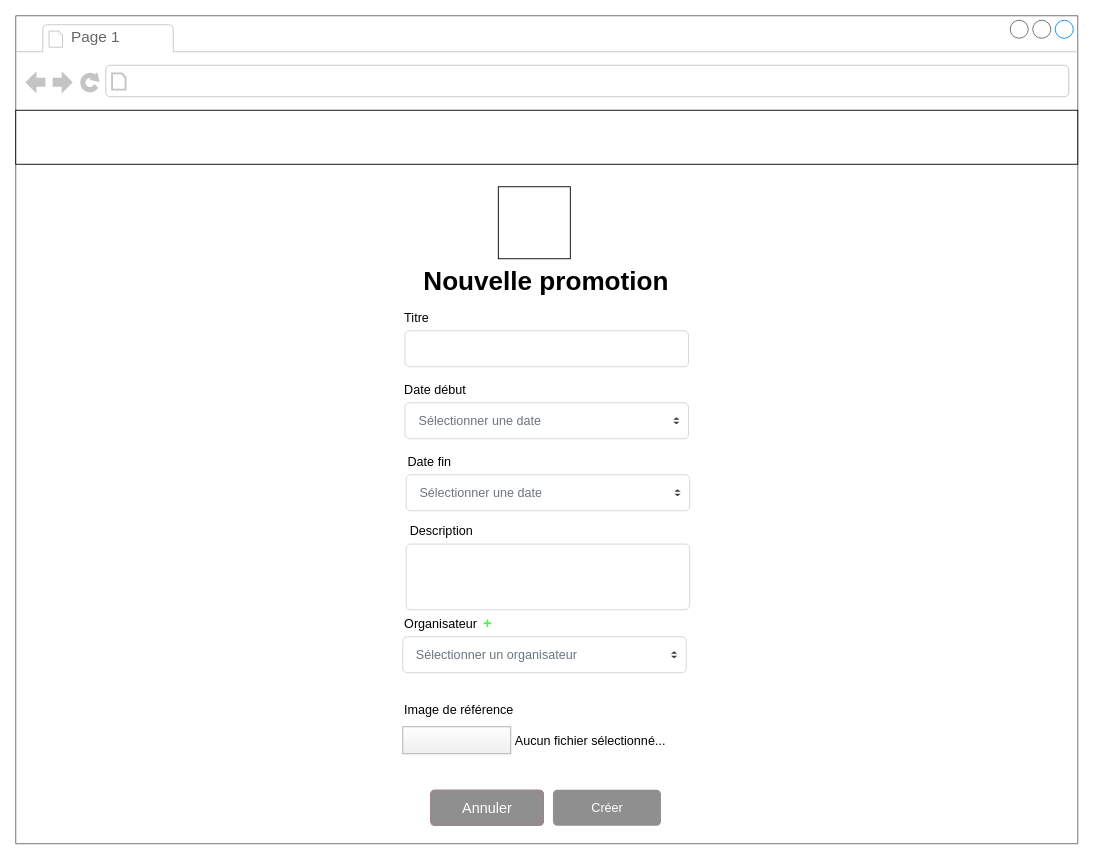
Some shapes in this 1094 by 860 pixel diagram are drawn without their labels. The box of each missing label's shape, as (x1, y1, x2, y2) in pixels:
Barre de navigation: (15, 109, 1078, 164)
Choisir une img: (402, 726, 511, 754)
https://www.NouvelUtilisateur: (132, 69, 358, 93)
img: (497, 186, 570, 259)
